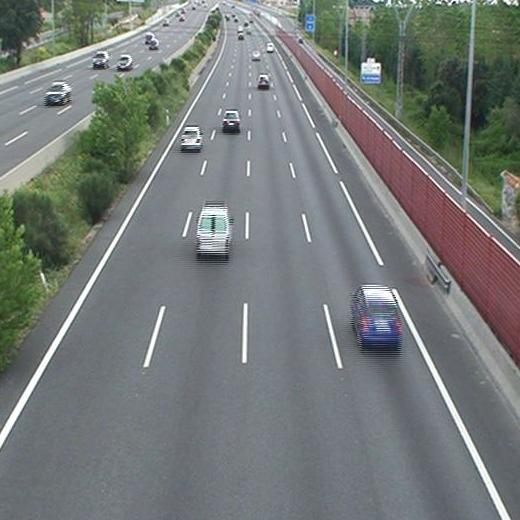car: (352, 288, 403, 347), (181, 126, 201, 148), (223, 111, 240, 129), (257, 74, 269, 87), (251, 50, 261, 62), (265, 42, 274, 51), (237, 31, 246, 40)
van: (196, 206, 230, 256)
